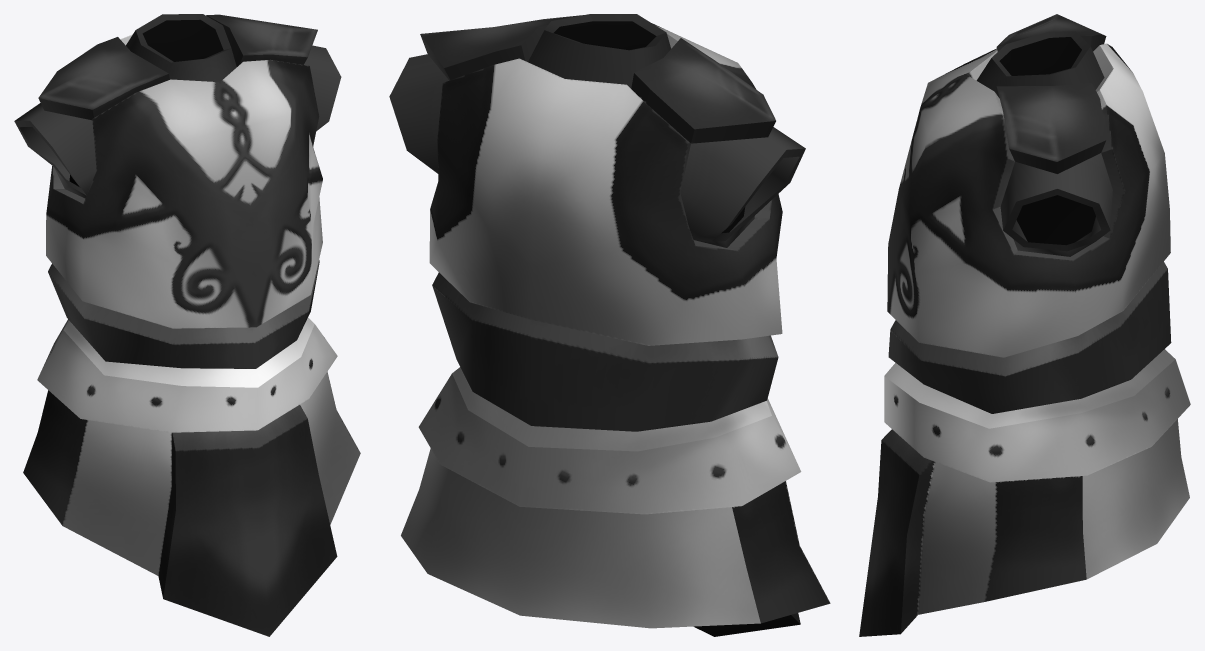
File: ironArmour_mesh.fbx
3 renders of one model, left to right at view 1: azimuth 30°, elevation 25°; view 2: azimuth 150°, elevation 25°; view 3: azimuth 270°, elevation 25°, orthographic. The views are drawn at different scales.
Parts seen in each view (by area): view 1: ironArmour; view 2: ironArmour; view 3: ironArmour.
Part boxes in pixels (x1,y1,x2,y2): ironArmour: (14, 14, 360, 636); ironArmour: (389, 14, 830, 636); ironArmour: (859, 14, 1190, 636).
Bounding box in the file's own units: 29.25 × 51.05 × 25.99.
